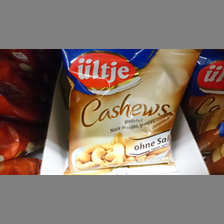nuts: (61, 49, 199, 174)
